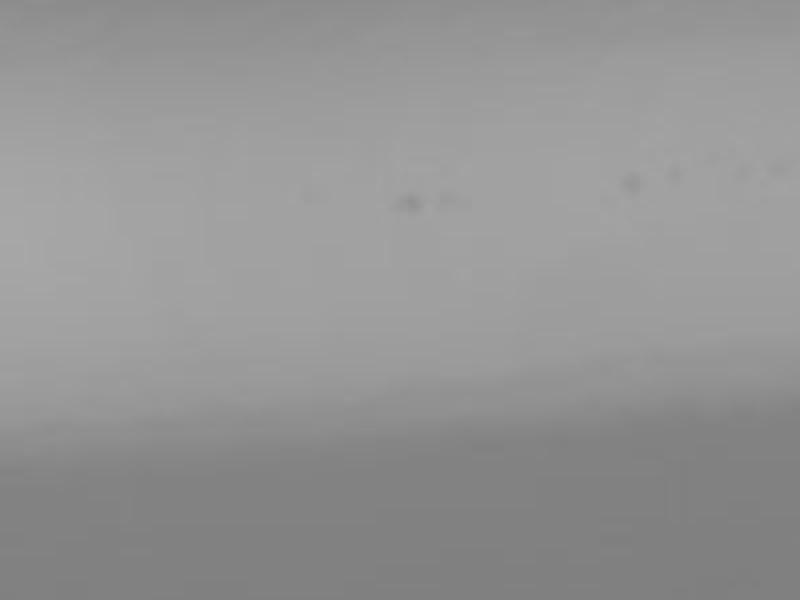defect: (615, 171, 643, 206), (394, 192, 430, 217), (439, 193, 473, 214), (665, 165, 689, 185)
